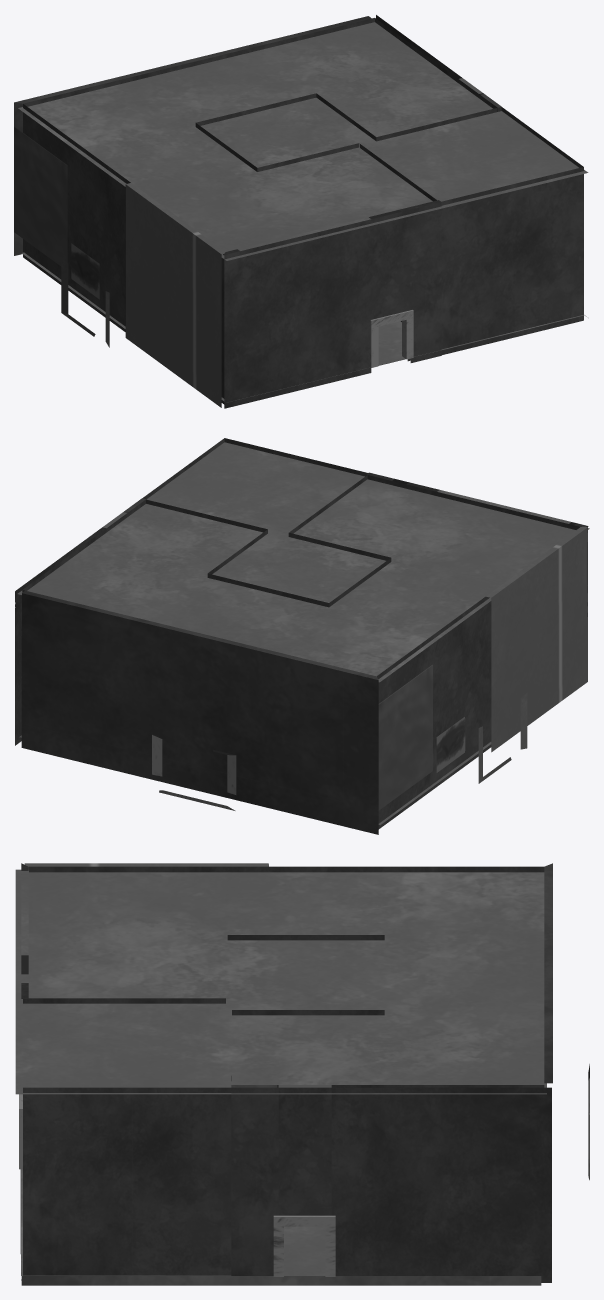
The model's file is room_bendAlt1.fbx.
3 views of the same model, one above another, from view 1: azimuth 30°, elevation 25°; view 2: azimuth 150°, elevation 25°; view 3: azimuth 270°, elevation 25° (orthographic). The views are drawn at different scales.
Visible parts, largest first — view 1: Room_Exit_4_V3; view 2: Room_Exit_4_V3; view 3: Room_Exit_4_V3.
Part boxes in pixels (x1,y1,x2,y2): Room_Exit_4_V3: [14, 15, 588, 408]; Room_Exit_4_V3: [15, 438, 589, 834]; Room_Exit_4_V3: [15, 863, 589, 1285].
Size of the model in its own units: 81.3 by 30.43 by 81.2.
